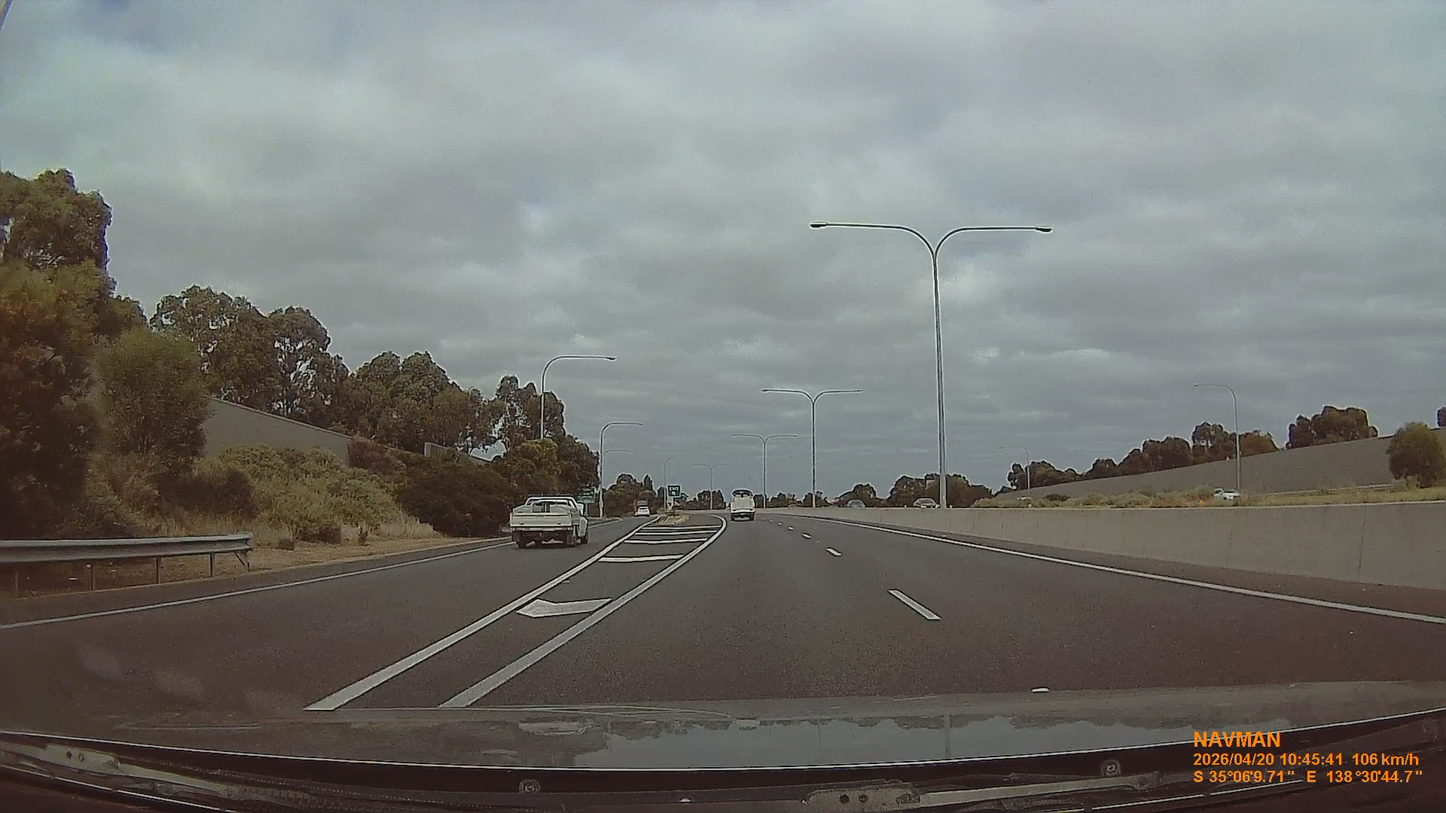road barriers: (782, 499, 1442, 589), (2, 534, 248, 593)
